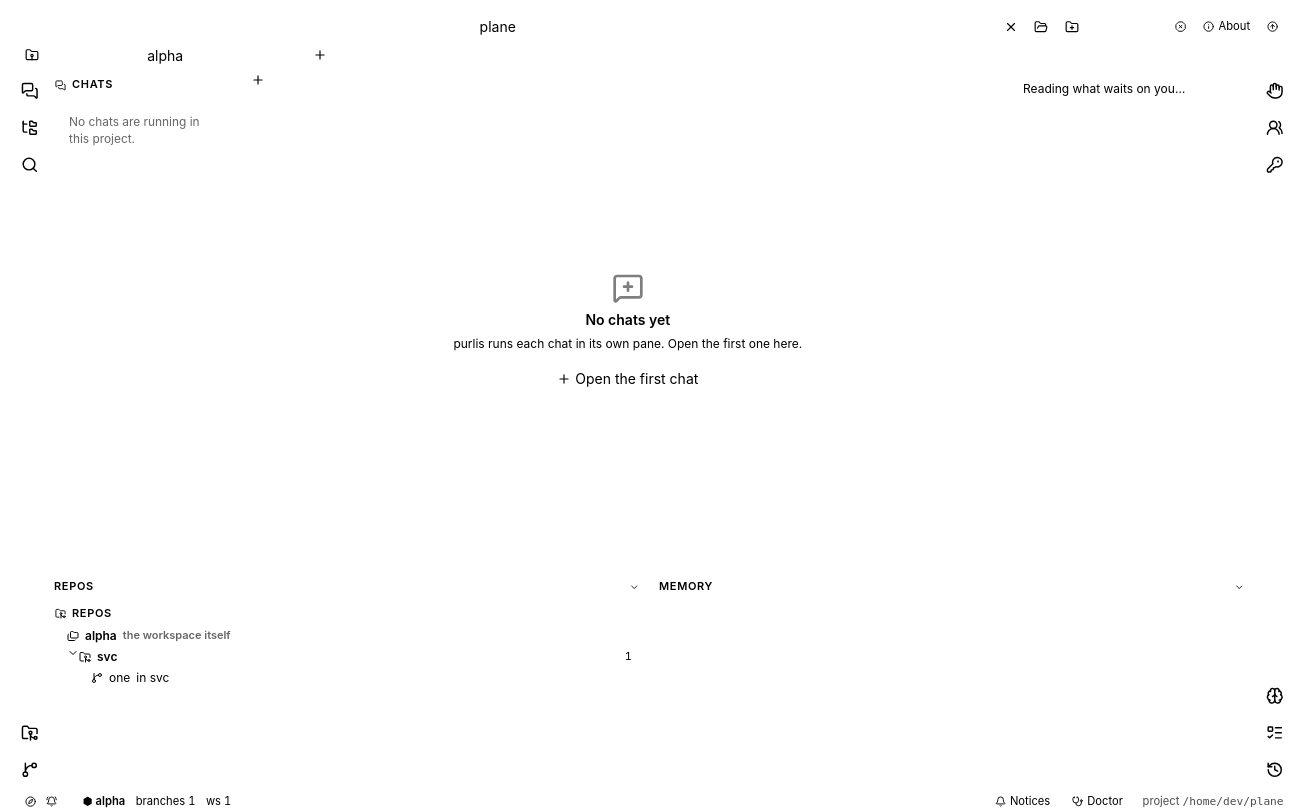
Test: Start a chat here, from a file's preview (#1151) › starts a chat on the file's branch and path, through the core's own start
Click the tab named "Explorer".
click(30, 128)  # box [12, 110, 47, 145]
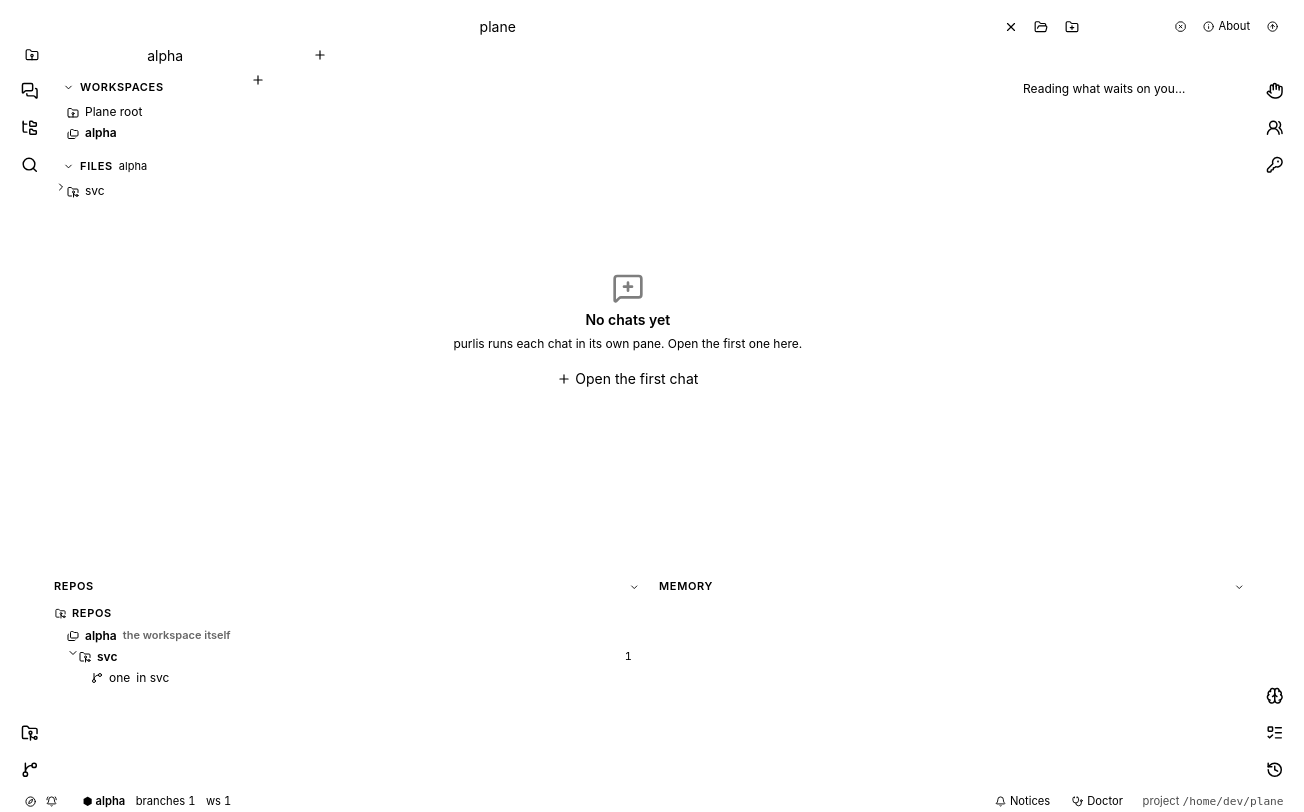
Click the list item "one in svc".
click(97, 678)  # box [55, 668, 644, 688]
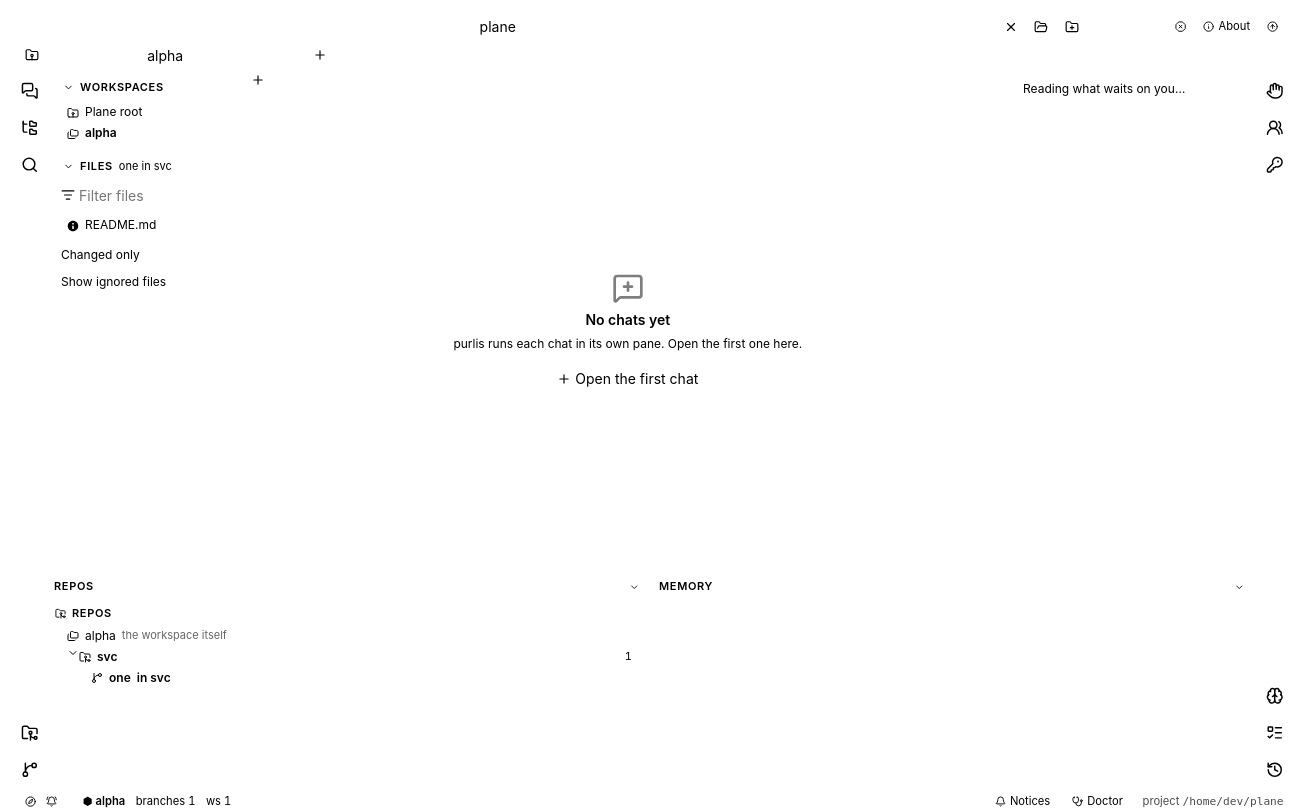
Click the list item "README.md".
click(144, 226)  # box [55, 215, 233, 236]
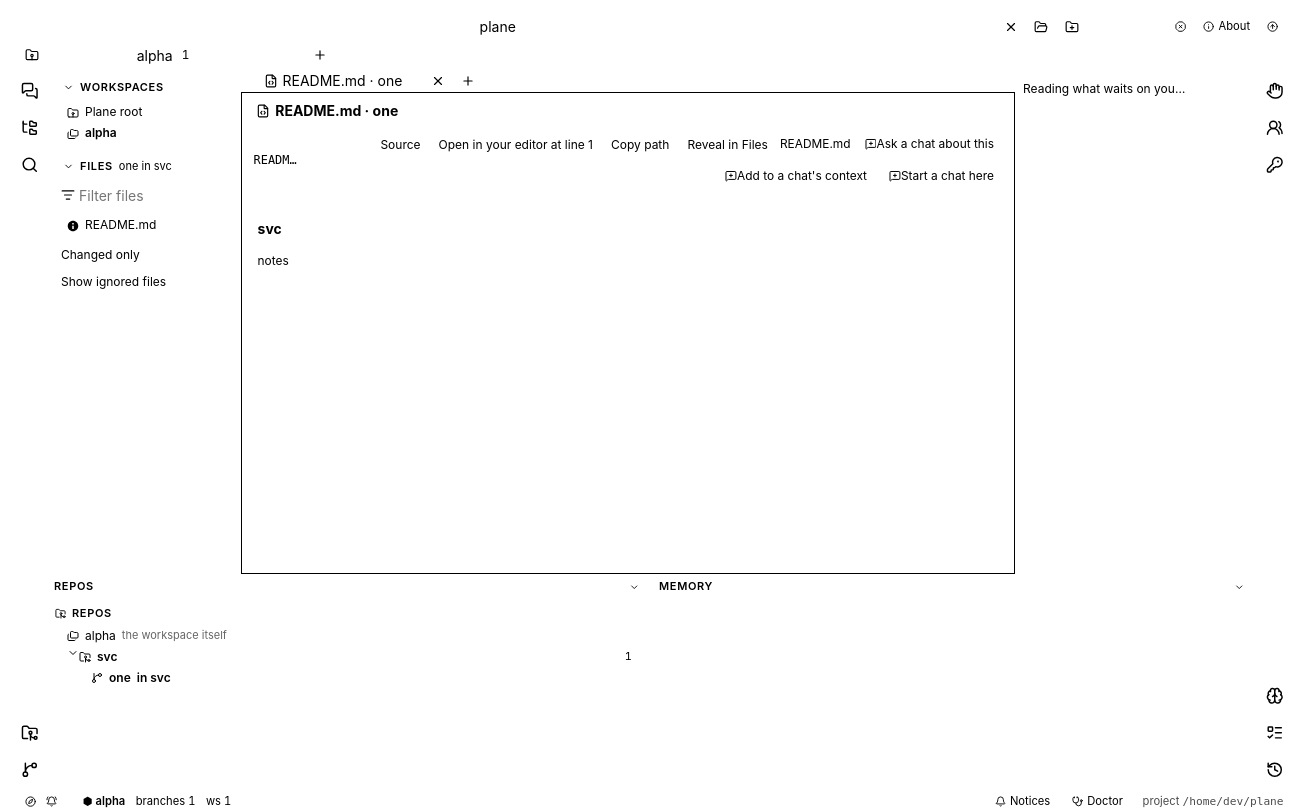
Click the button with aria-label "Start a chat here on README.md".
click(942, 177)  # box [881, 164, 1002, 190]
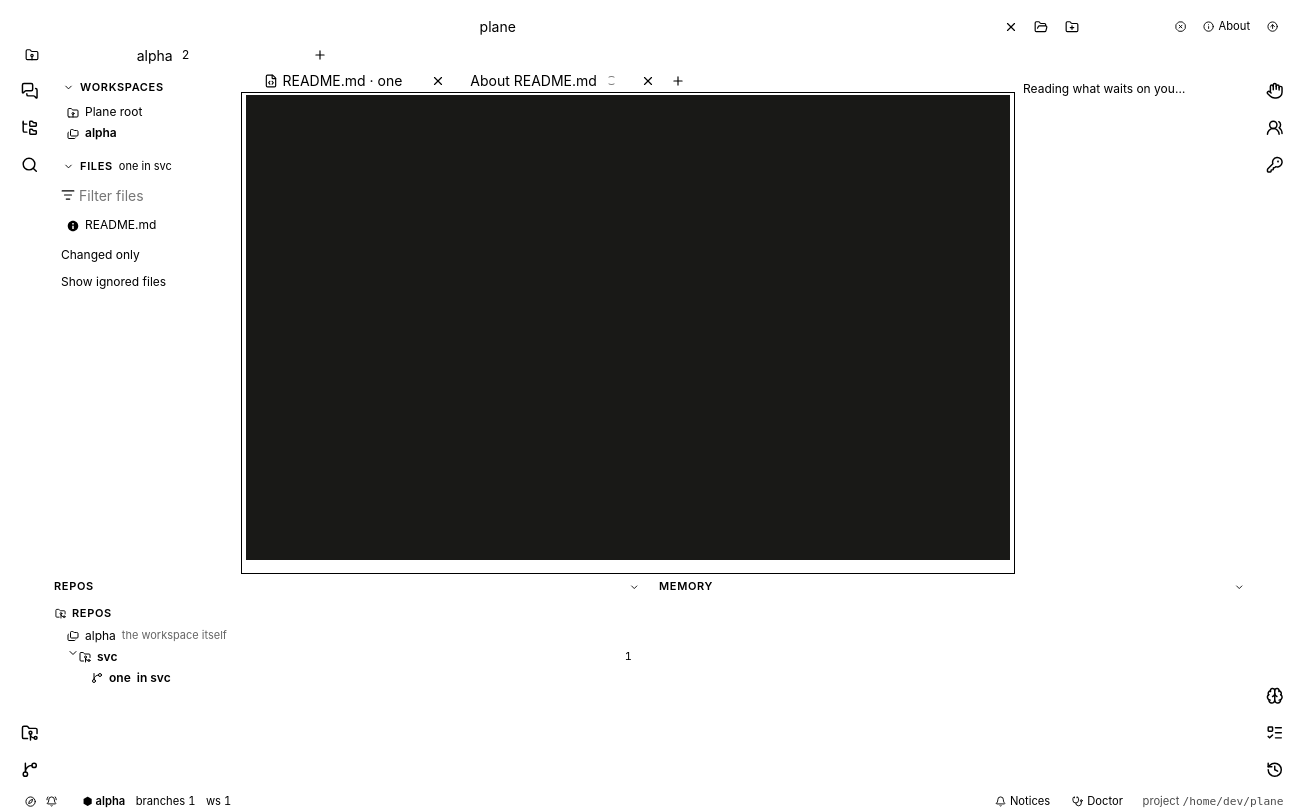
expect the text "About README.md" is shown: met, box [470, 71, 597, 90]
